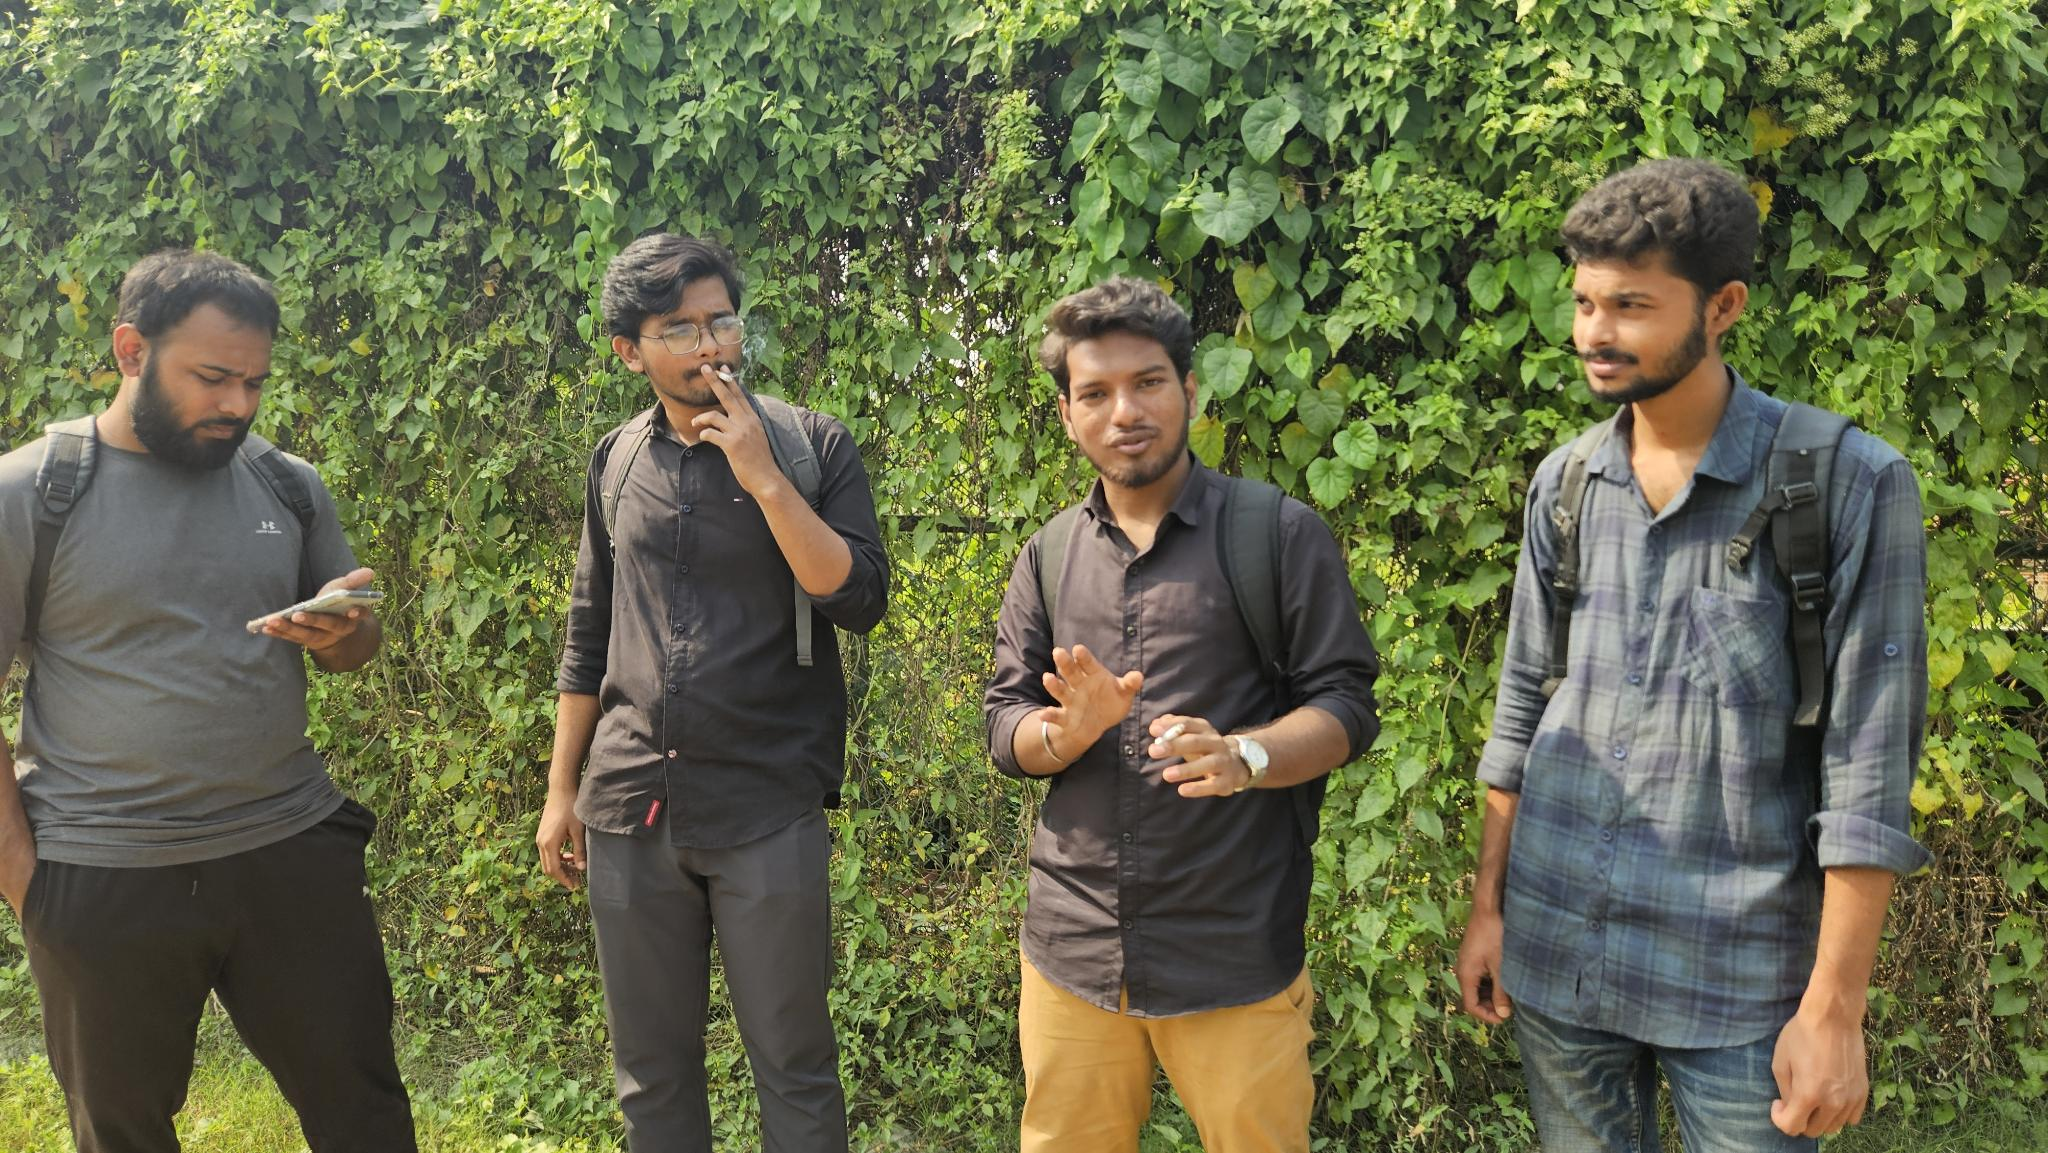cigarette: (1152, 721, 1187, 748), (713, 368, 736, 384)
nonSmoker: (1454, 156, 1935, 1153), (0, 249, 418, 1153)
smoker: (982, 277, 1383, 1153), (536, 233, 890, 1153)
